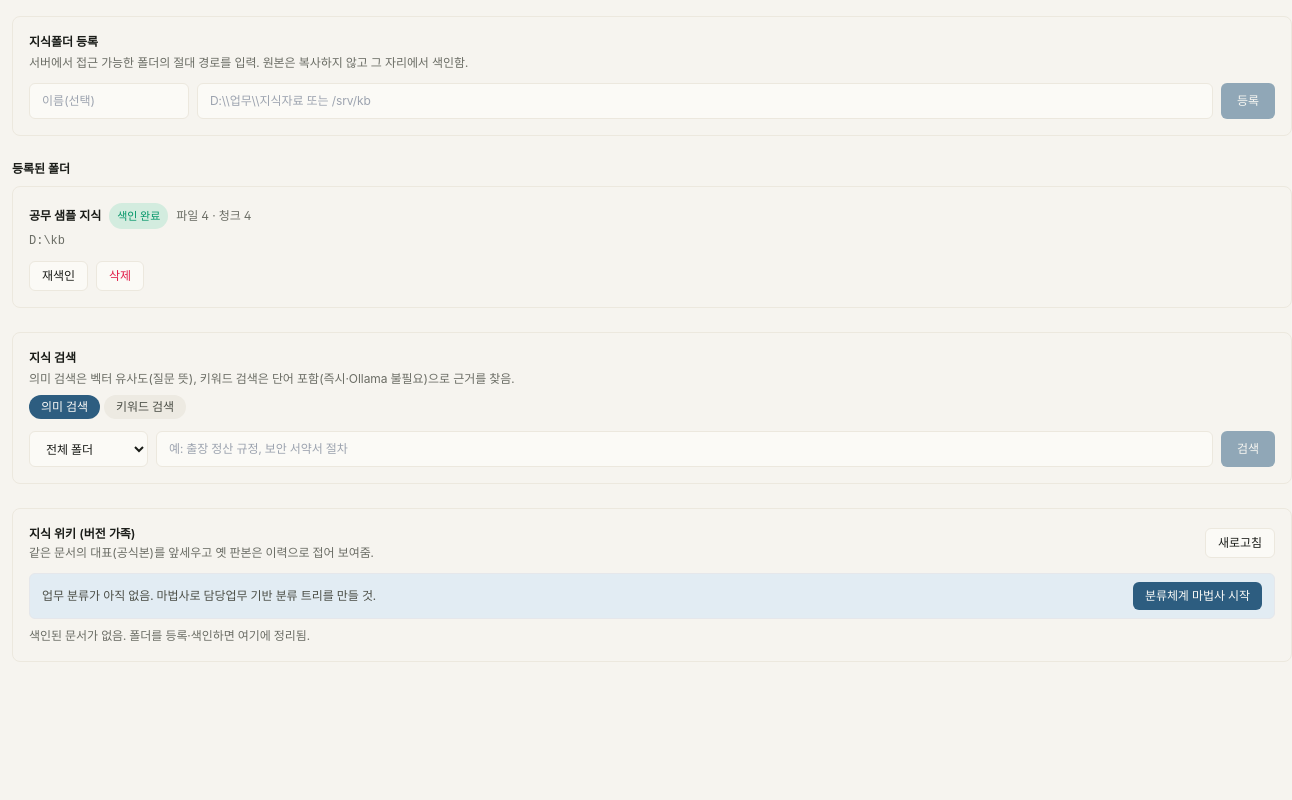
Test: KnowledgePanel — 검색 결과 라벨 › 의미 모드는 유사도 라벨과 임베딩 모델 캡션을 유지한다
The width and height of the screenshot is (1292, 800).
Expected: the text "공무 샘플 지식" is shown, [29, 207, 101, 225]
Type "예산" into the field with placeholder "예: 출장 정산 규정, 보안 서약서 절차" at (684, 449), box [156, 431, 1213, 467]
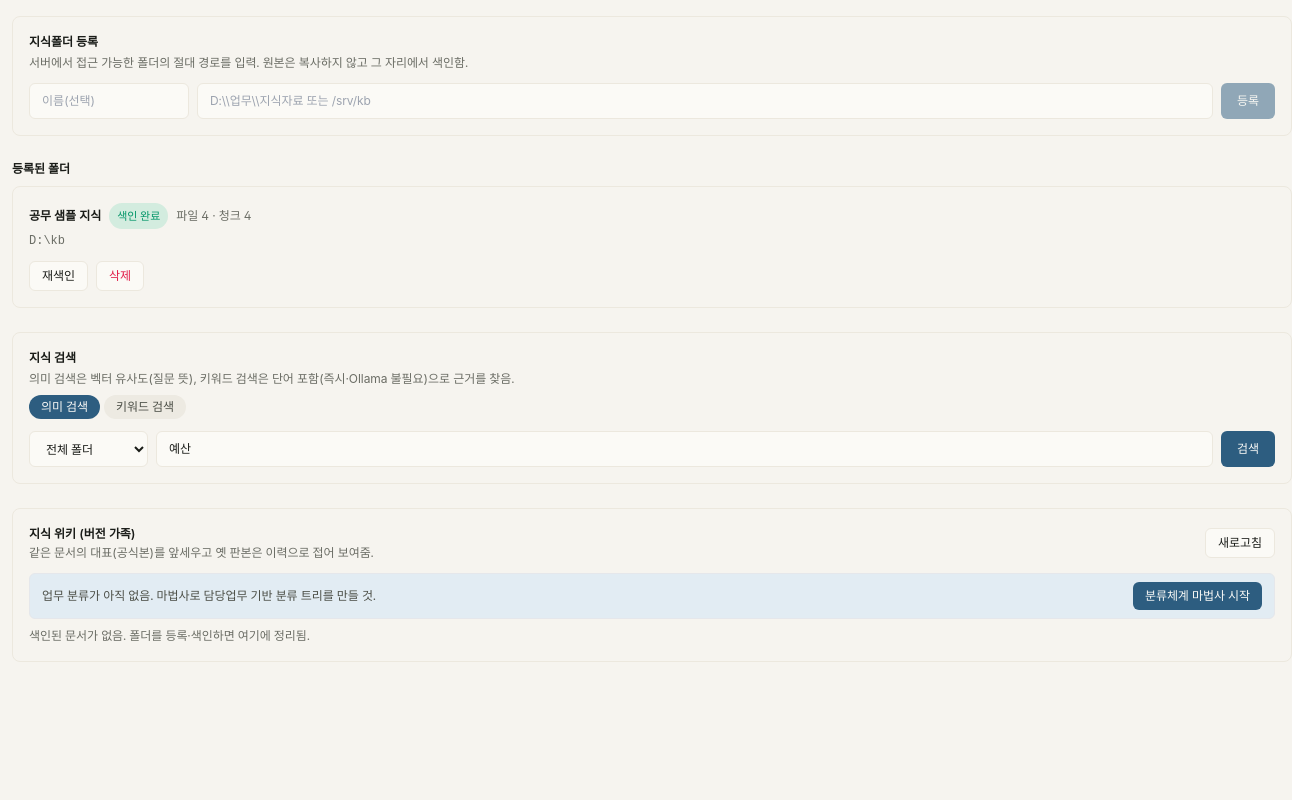
Click the button "검색" at (1248, 449), box [1221, 431, 1275, 467]
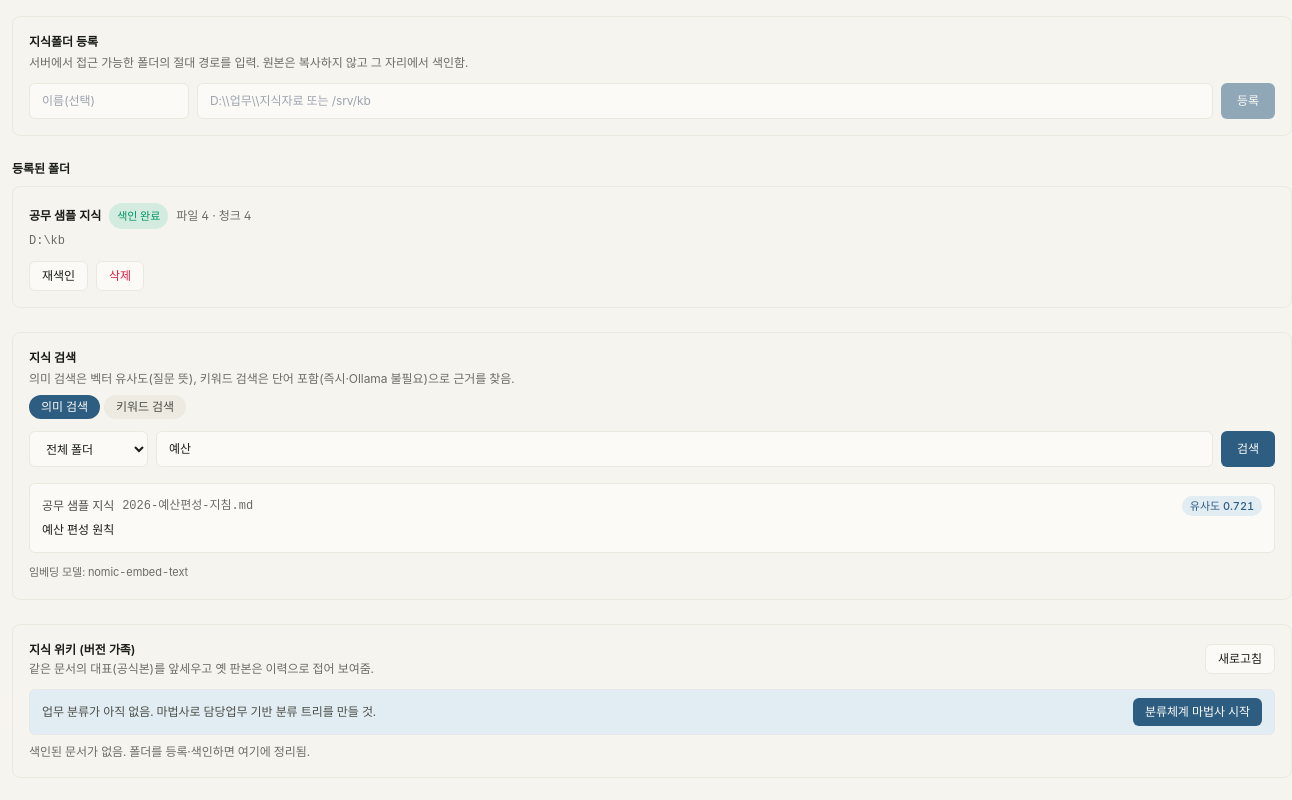
Result: the text "유사도 0.721" is shown at [1182, 496, 1262, 516]
Result: the text "임베딩 모델: nomic-embed-text" is shown at [29, 564, 188, 578]
